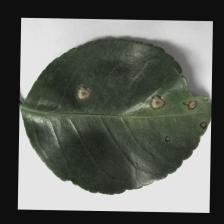canker: (62, 65, 208, 149)
